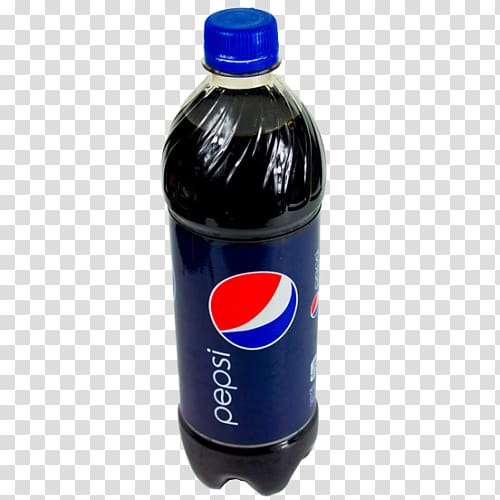pepsi_bottle: (162, 7, 323, 497)
